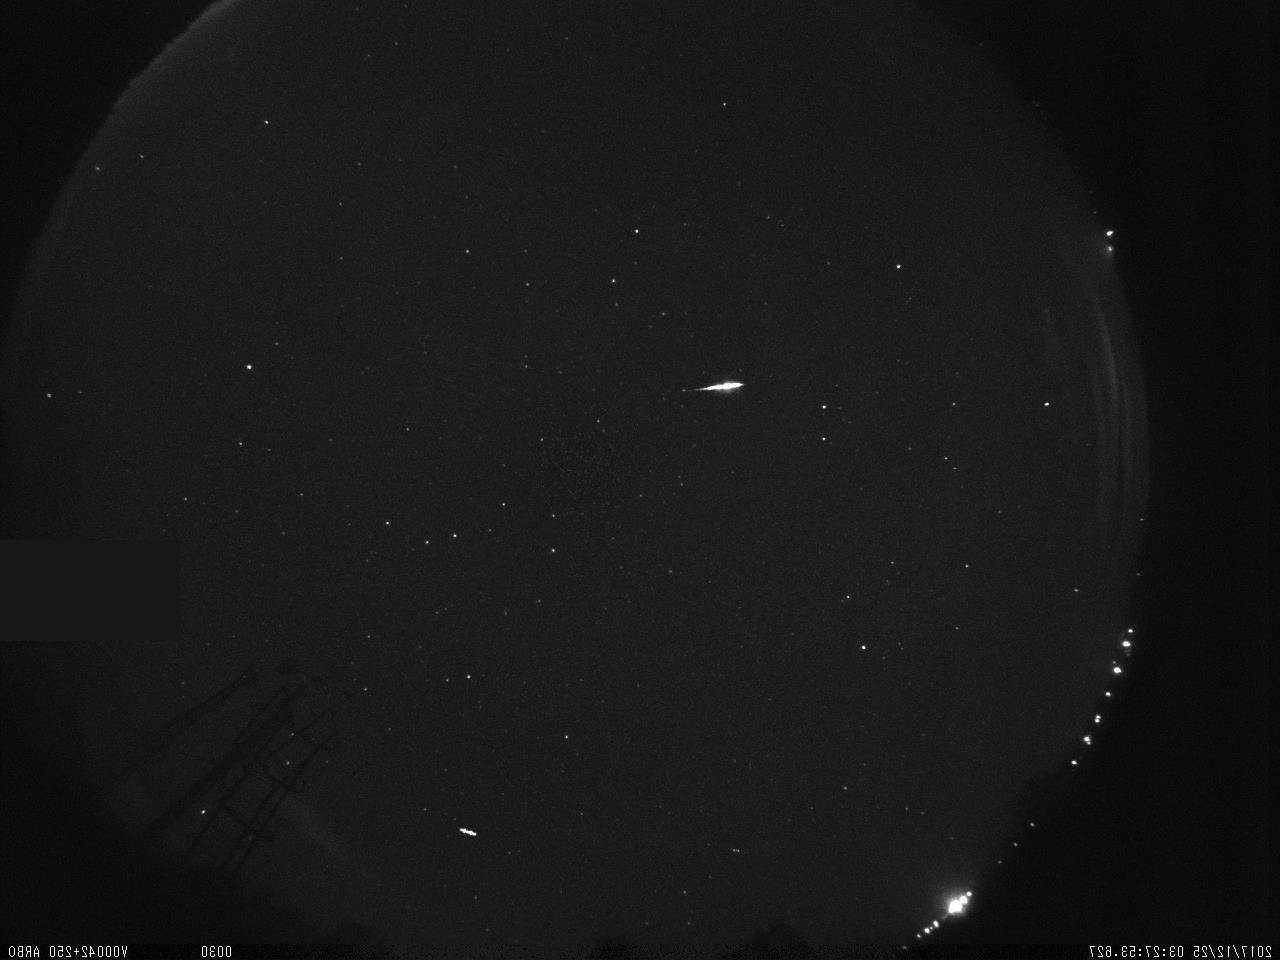meteor: (682, 375, 748, 403)
satelite: (455, 824, 484, 842)
